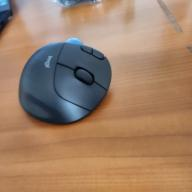mouse: (18, 37, 113, 124)
